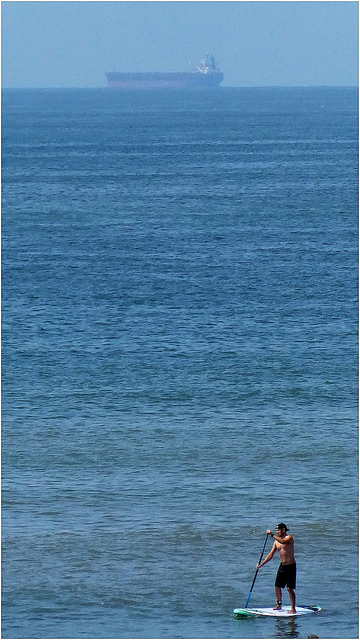bulk carrier: (103, 55, 231, 95)
